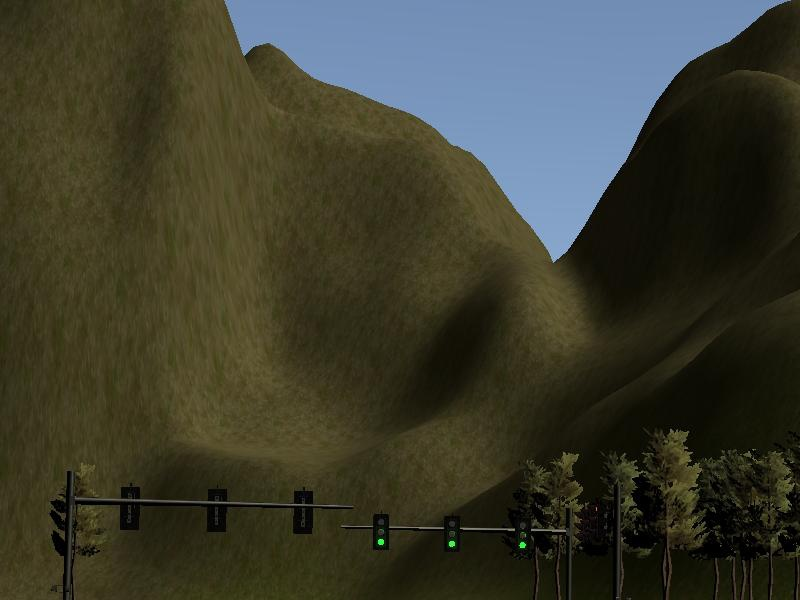Green: (372, 514, 389, 551), (443, 516, 460, 551), (516, 517, 530, 551)
